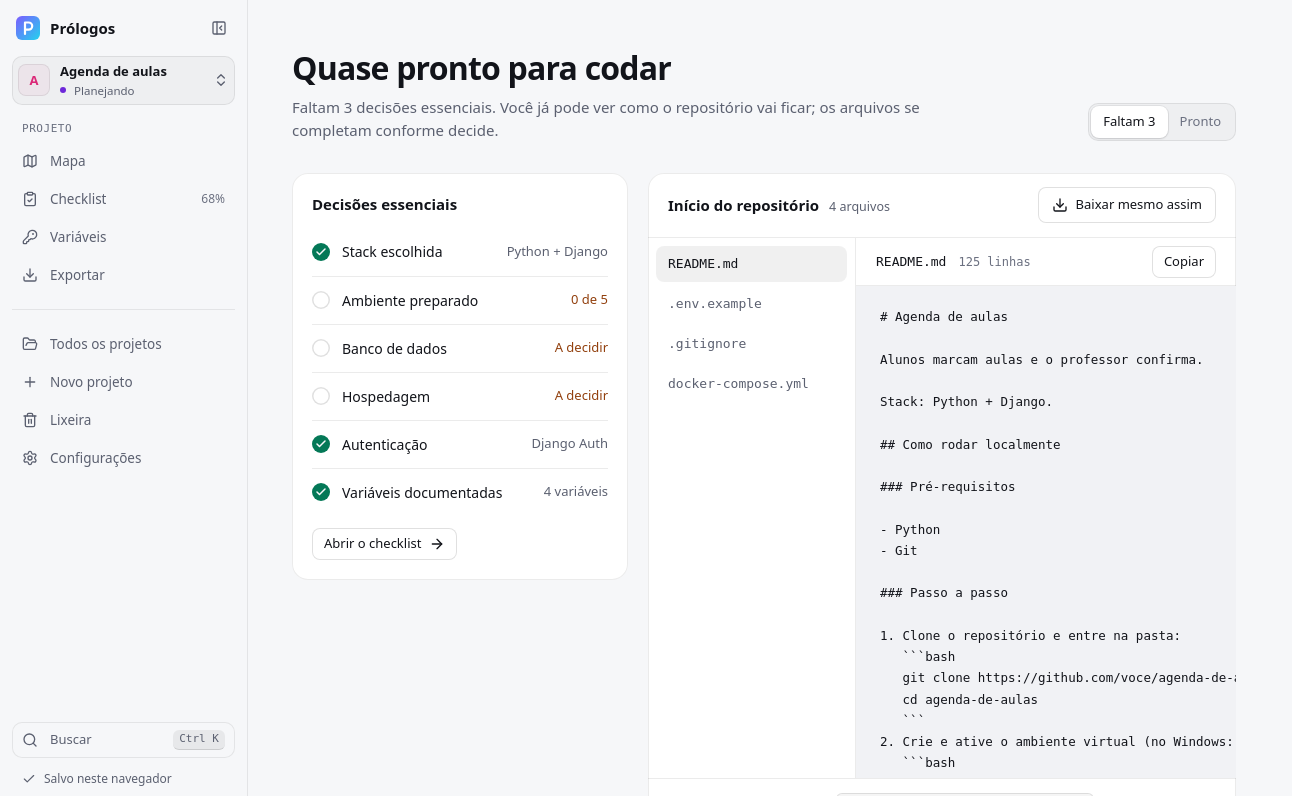
Test: Pronto para codar (RN 16) › lists the essential decisions, previews the files and downloads the .zip
The image size is (1292, 796).
Expected: the heading "Quase pronto para codar" is shown, x1=292 y1=46 x2=671 y2=89
Expected: the text "Python + Django" is shown, x1=507 y1=243 x2=608 y2=260
Click the tab ".env.example" at (752,304), box x1=656 y1=286 x2=847 y2=322
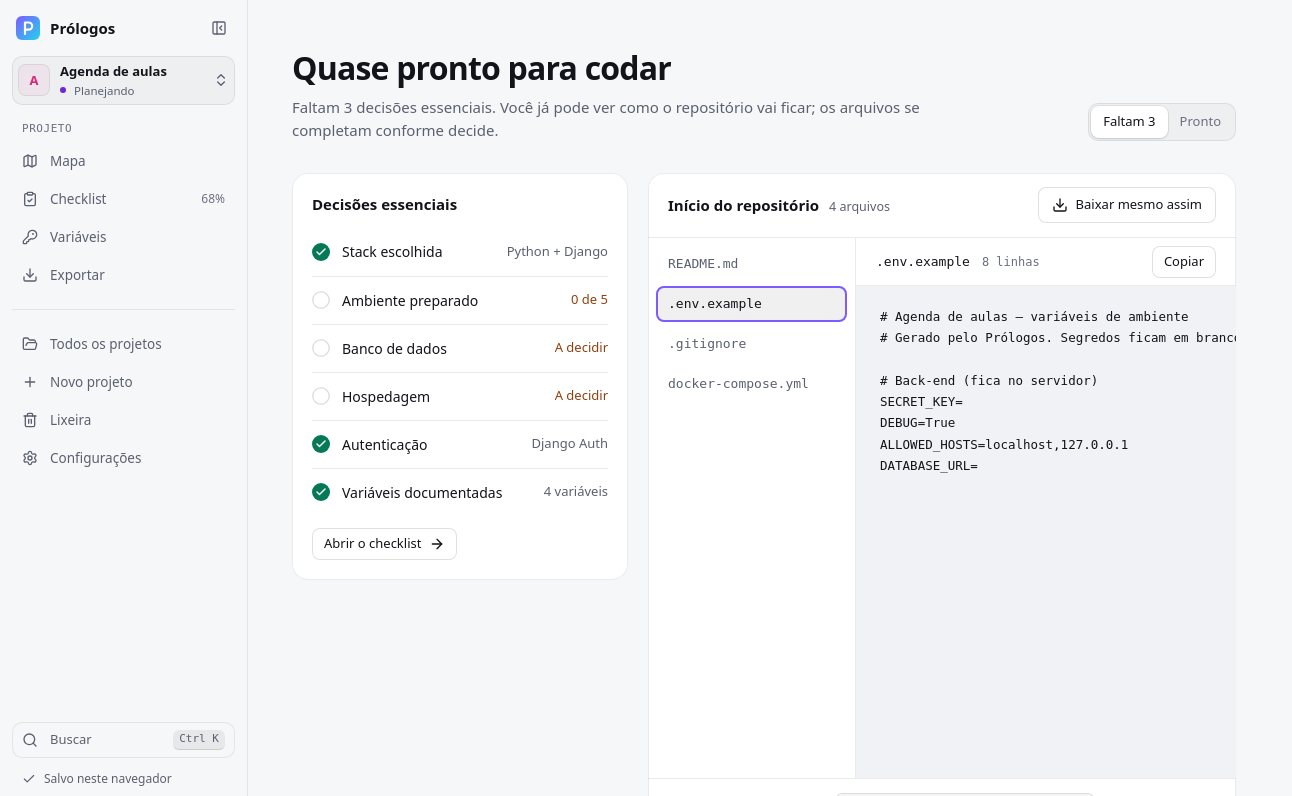
Click the button "Baixar mesmo assim" at (1127,205), box x1=1038 y1=187 x2=1216 y2=223
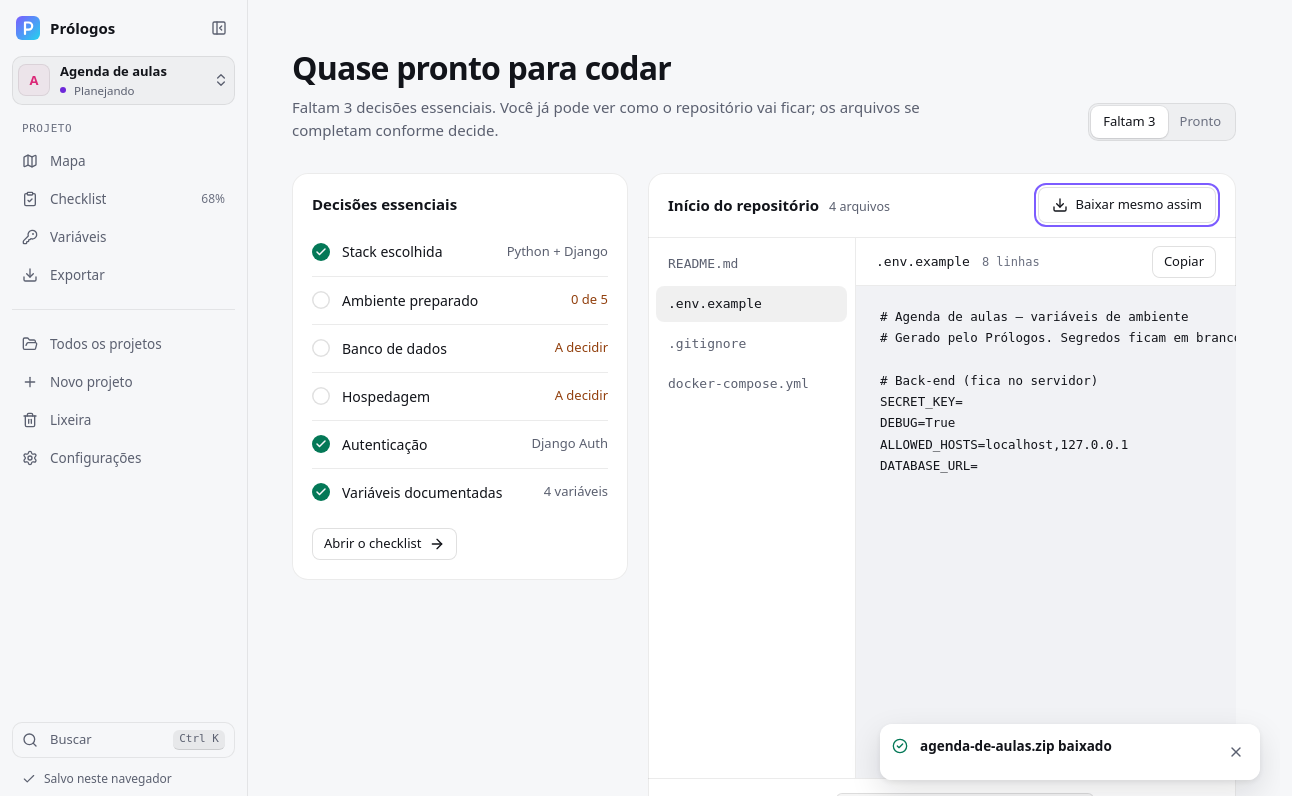
Now the text "agenda-de-aulas.zip baixado" is shown, box x1=920 y1=737 x2=1112 y2=755
